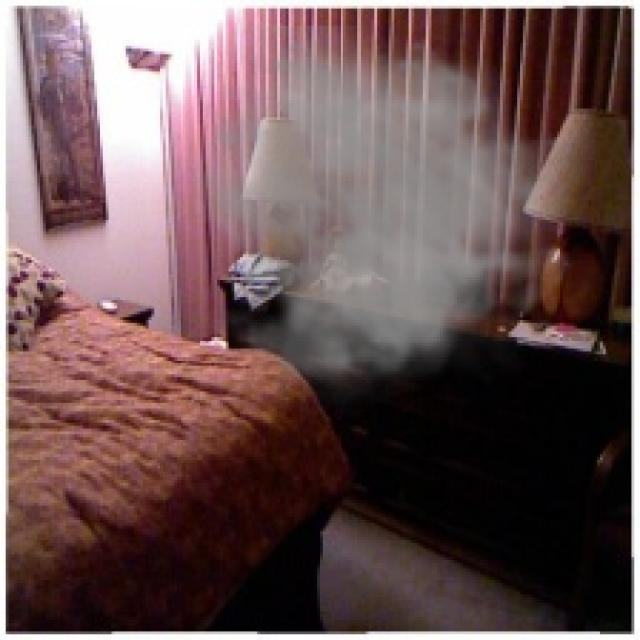smoke: (183, 26, 577, 417)
